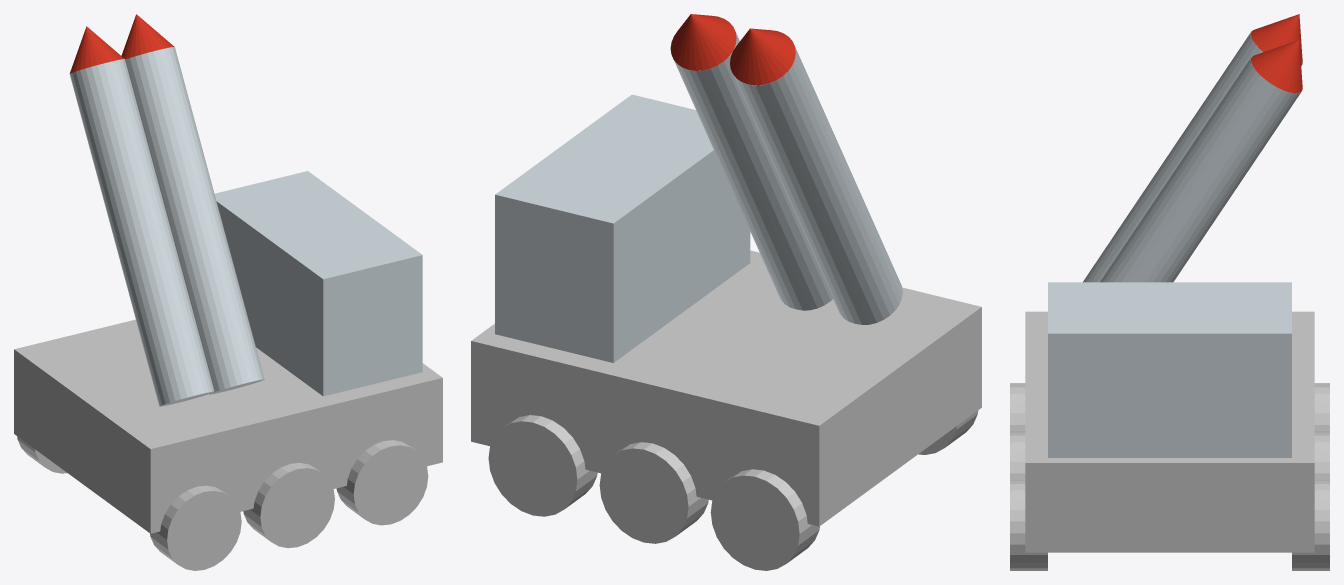
File: mobile_launcher.obj
3 views of the same model, side by side, from view 1: azimuth 30°, elevation 25°; view 2: azimuth 150°, elevation 25°; view 3: azimuth 270°, elevation 25° (orthographic). The views are drawn at different scales.
Parts seen in each view (by area): view 1: mobile_launcher; view 2: mobile_launcher; view 3: mobile_launcher.
Boxes of the visible parts, left/top/right/bottom form: mobile_launcher: left=14, top=14, right=442, bottom=570; mobile_launcher: left=471, top=14, right=981, bottom=570; mobile_launcher: left=1010, top=14, right=1329, bottom=570.
Size of the model in its own units: 0.94 by 1.35 by 0.84.
